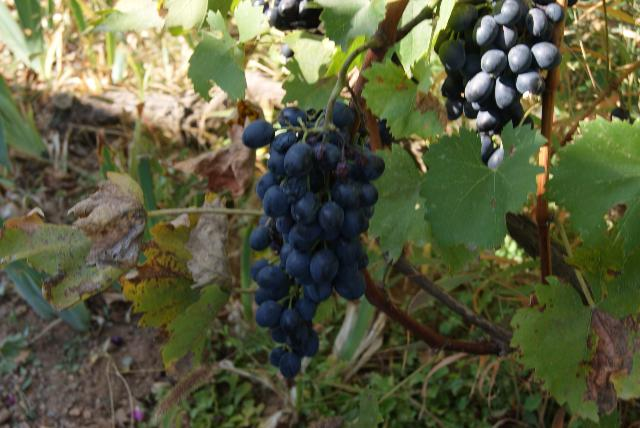grapes: (242, 102, 385, 379), (435, 0, 565, 168)
